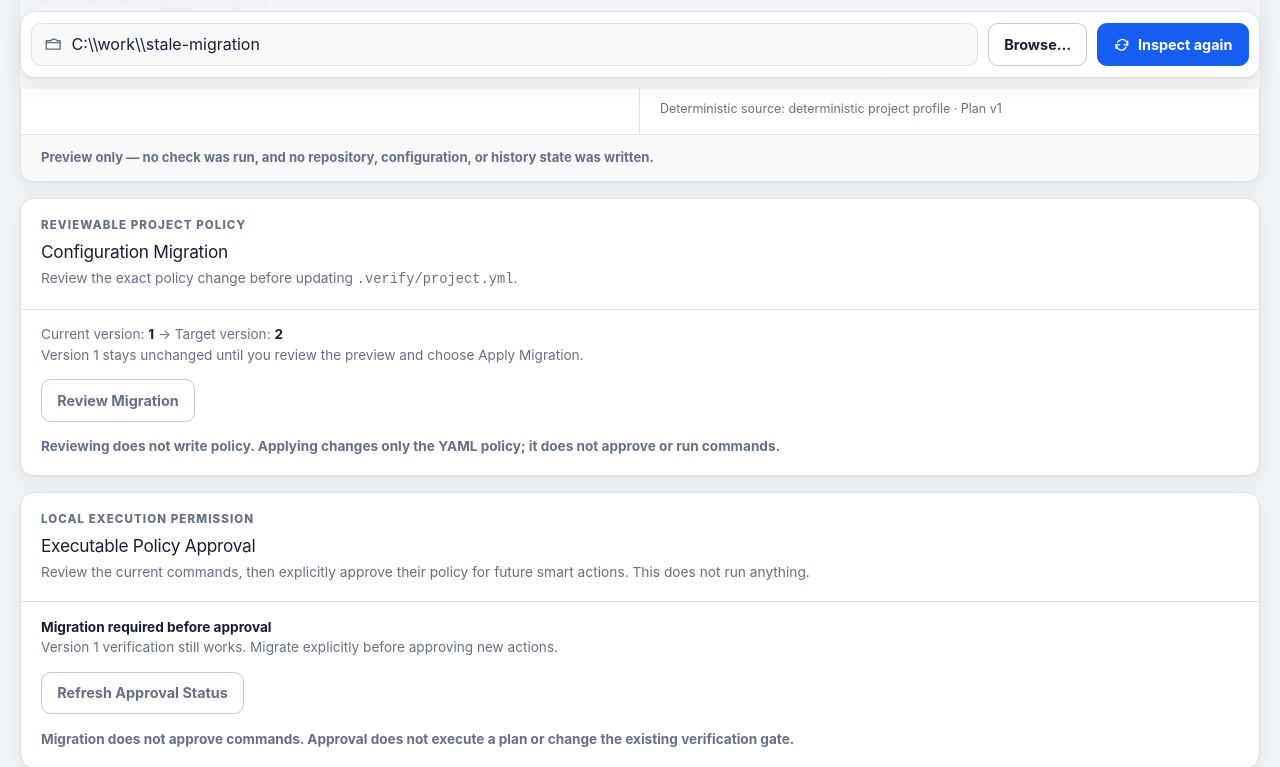
desktop dashboard › reports a stale migration conflict without claiming success or overwriting policy
(page scrolled)
What coordinates should you click on to do the following:
click the button "Review Migration"
I would click on:
 (118, 401)
Its box is [41,380,195,422].
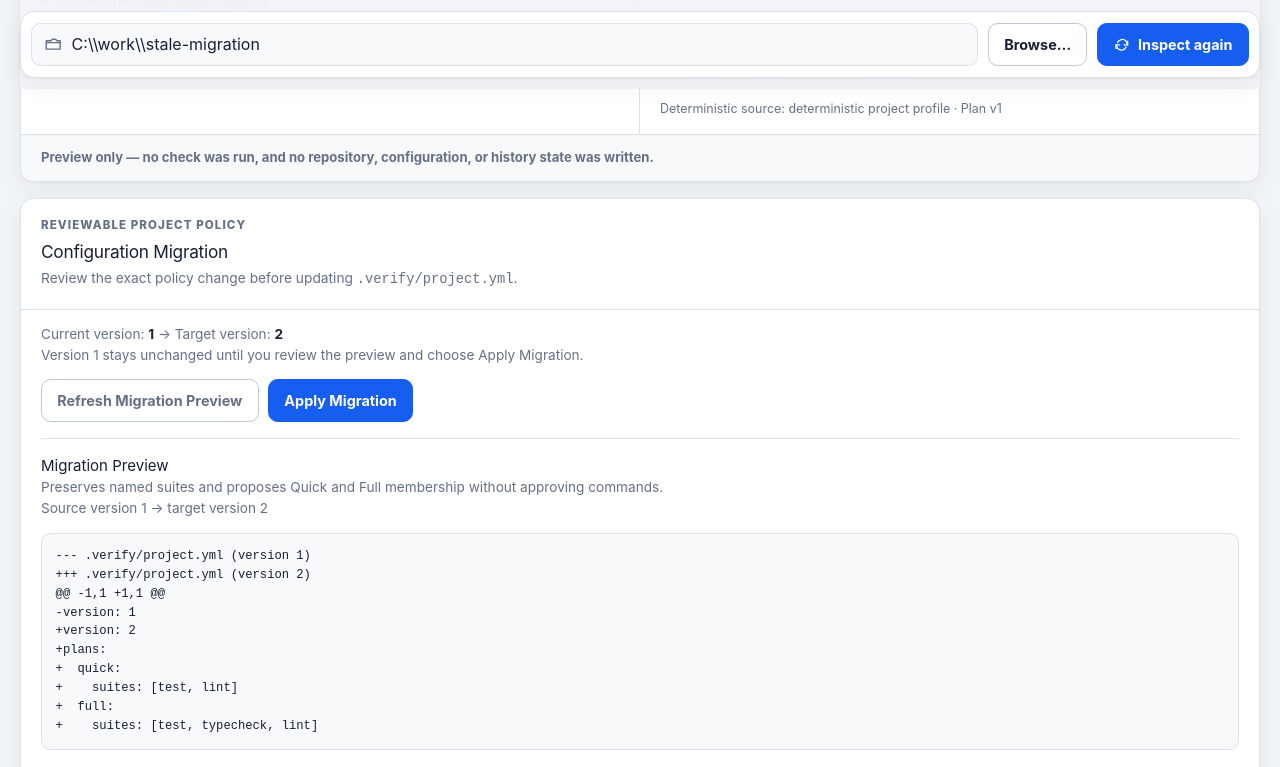
What coordinates should you click on to do the following:
click the button "Apply Migration"
I would click on:
 (340, 401)
Its box is [268,380,413,422].
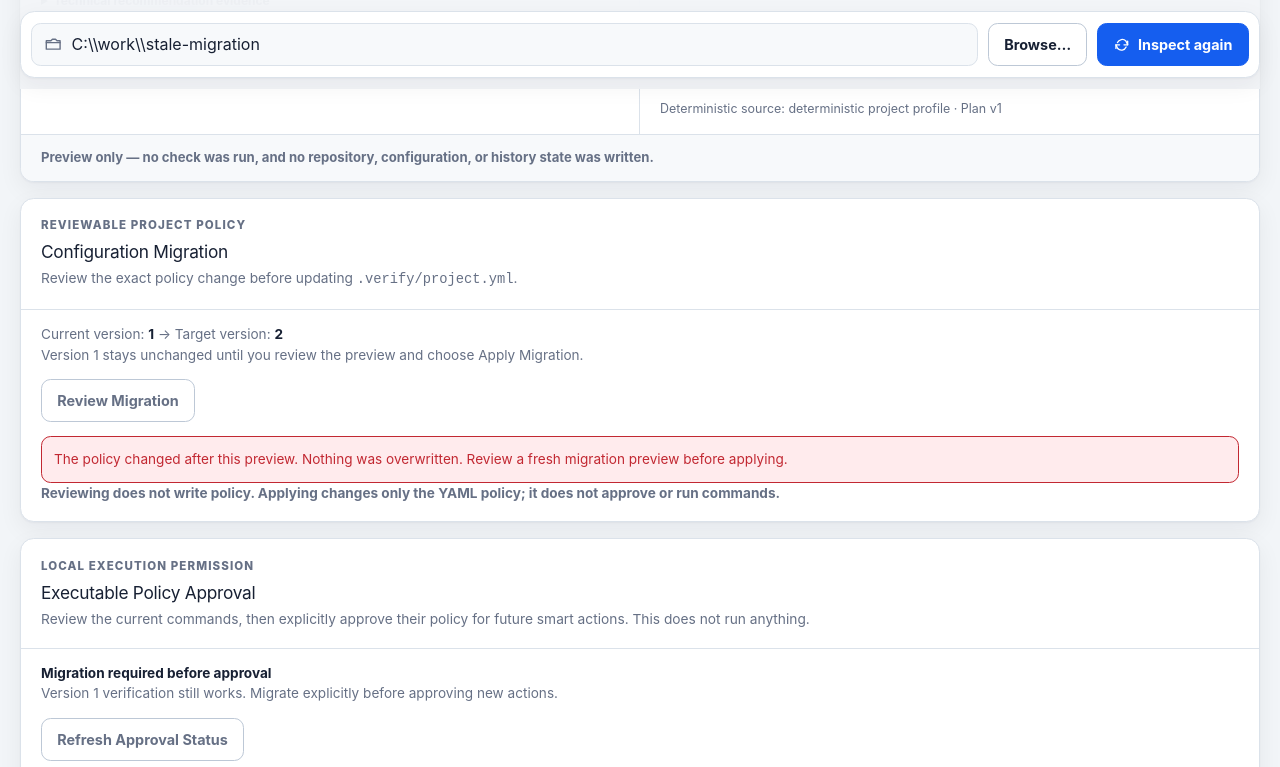
Expected: the element "Configuration Migration" shows "Current version: 1", [20,198,1260,522]
Now the 1st message shows "The policy changed after this preview. Nothing was overwritten.", box [54,451,788,467]
